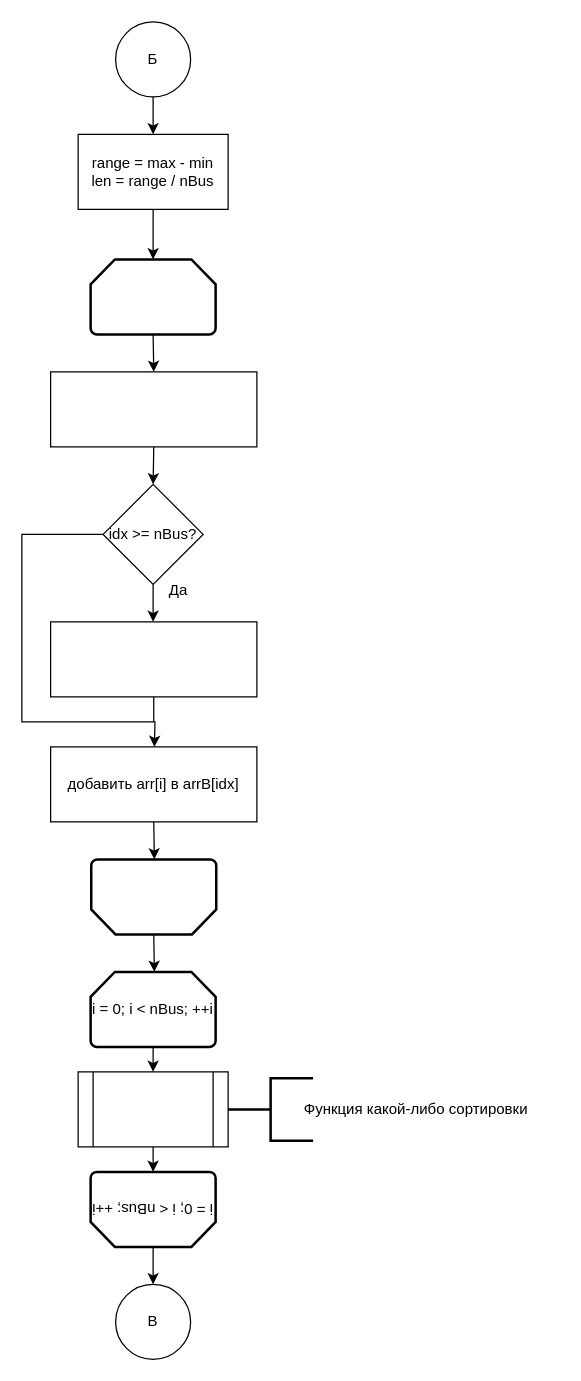
Some shapes in this 581 by 1381 pixel diagram are drawn without their labels. Each missing label, with the centre of its shape:
"i = 0; i < n; ++i" belongs at (152,296).
"idx -= 1" belongs at (153,659).
"idx = (arr[i] - min) / len" belongs at (153,409).
"sort(arrB[i])" belongs at (152,1109).
